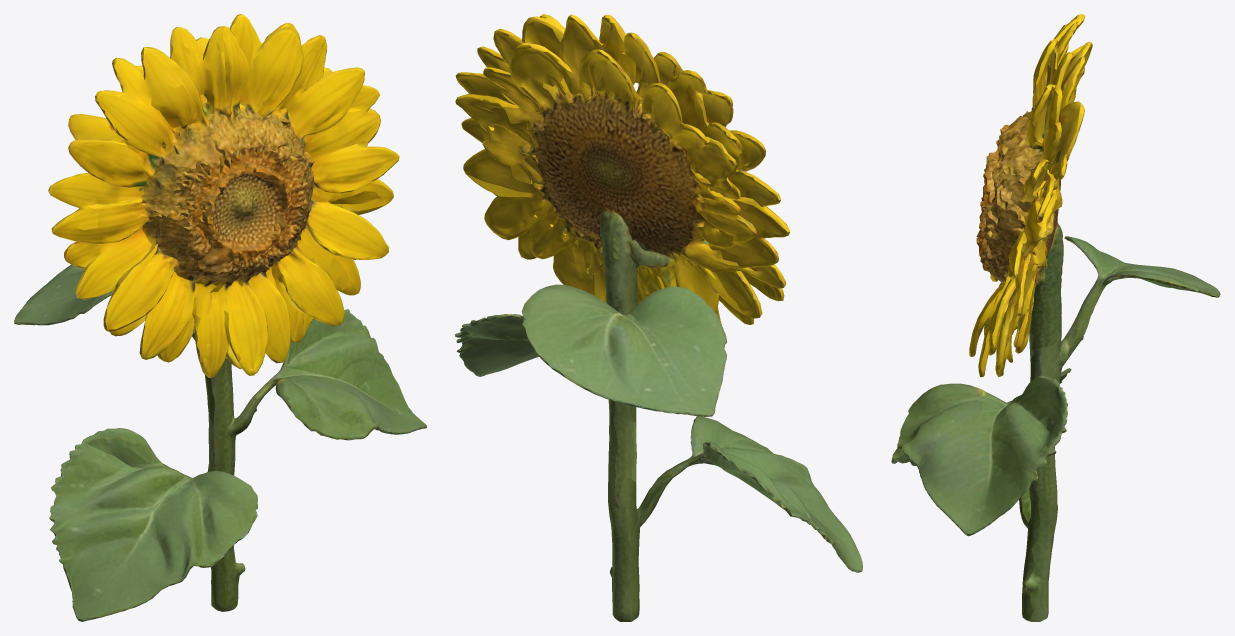
Rendered from lux-sunflower.glb.
3 renders of one model, left to right at view 1: azimuth 30°, elevation 25°; view 2: azimuth 150°, elevation 25°; view 3: azimuth 270°, elevation 25°, orthographic. The views are drawn at different scales.
Parts seen in each view (by area): view 1: geometry_0; view 2: geometry_0; view 3: geometry_0.
Part boxes in pixels (box(x1,y1,x2,y2)): geometry_0: box(14, 14, 426, 621); geometry_0: box(455, 14, 862, 621); geometry_0: box(891, 14, 1220, 621).
Size of the model in its own units: 0.5168 by 0.8 by 0.4106.
1 material, 1 textured.
